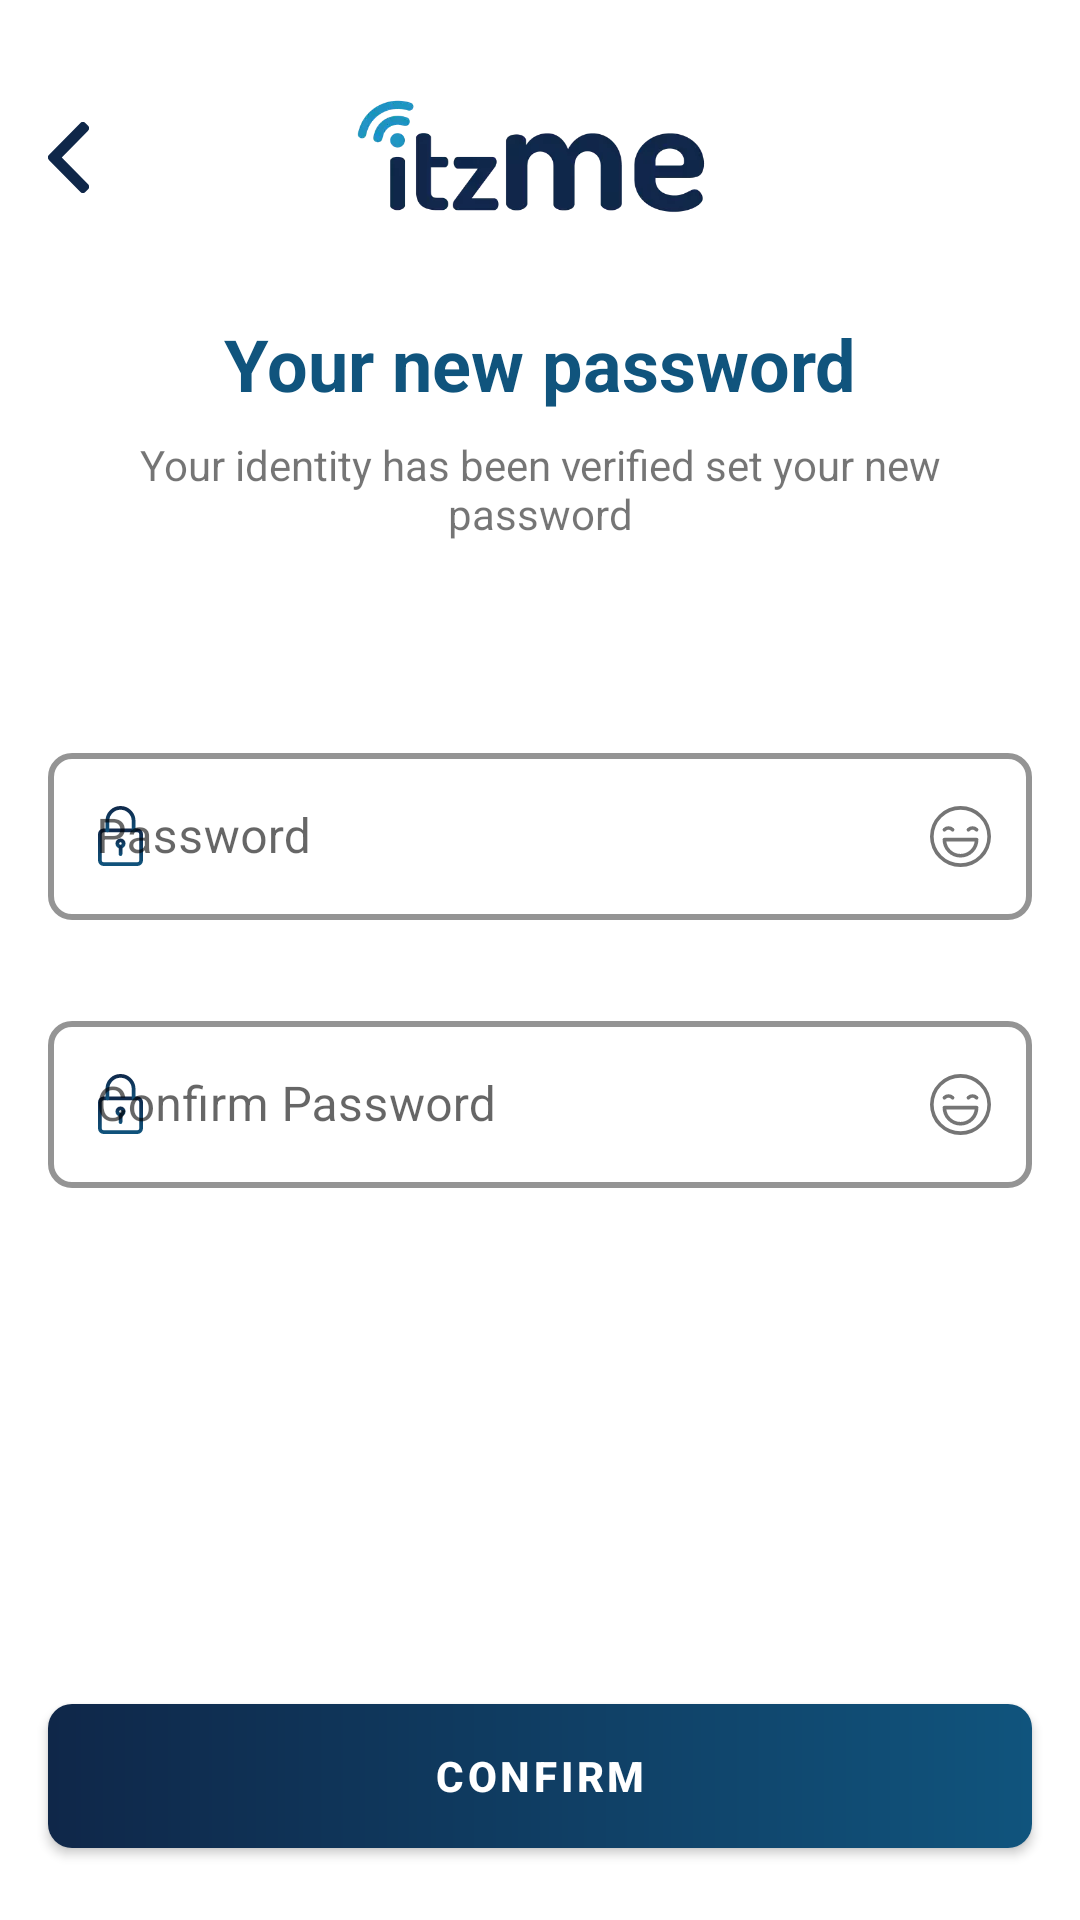

Named icons in this screenshot (1080×1920) and their bounding boxes, (x1, y1, x2, y2):
back: (48, 122, 89, 193)
